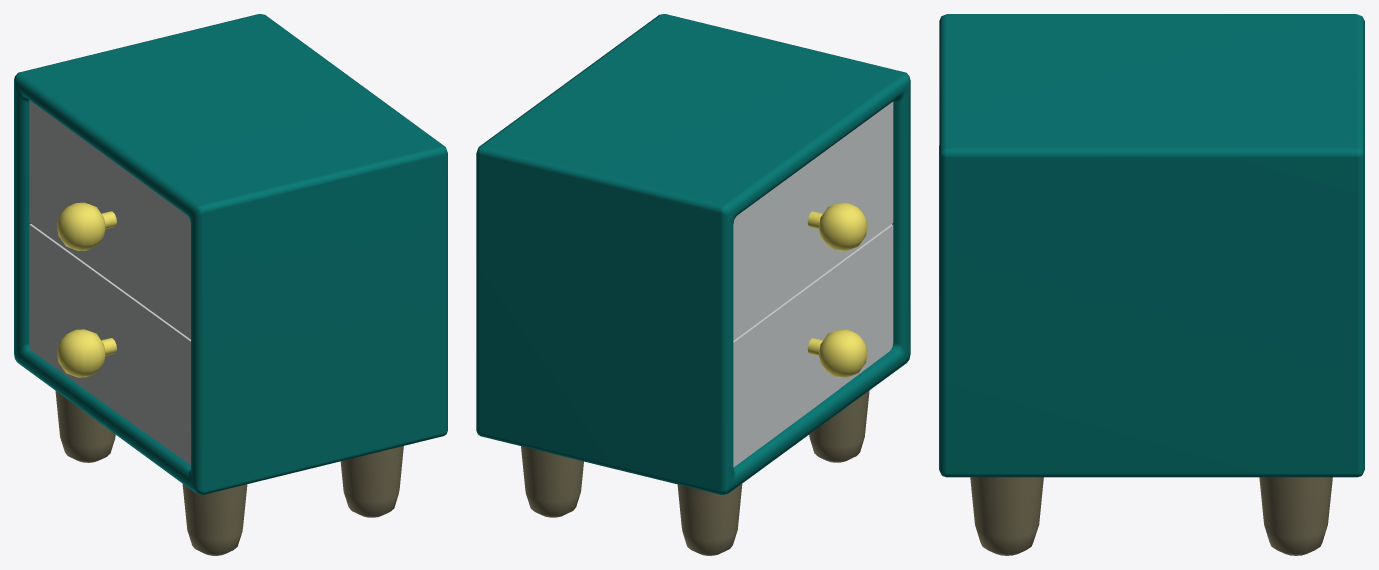
Rendered from SmallDrawerLivingRoom.fbx.
3 views of the same model, side by side, from view 1: azimuth 30°, elevation 25°; view 2: azimuth 150°, elevation 25°; view 3: azimuth 270°, elevation 25° (orthographic). The views are drawn at different scales.
Parts seen in each view (by area): view 1: smallDrawerLivingRoom.001, smallDrawerLivingRoom.003, smallDrawerLivingRoom.002; view 2: smallDrawerLivingRoom.001, smallDrawerLivingRoom.003, smallDrawerLivingRoom.002; view 3: smallDrawerLivingRoom.001.
Part boxes in pixels (x1=…): smallDrawerLivingRoom.001: x1=14, y1=14, x2=447, y2=555; smallDrawerLivingRoom.003: x1=29, y1=224, x2=190, y2=464; smallDrawerLivingRoom.002: x1=29, y1=100, x2=190, y2=339; smallDrawerLivingRoom.001: x1=476, y1=14, x2=910, y2=555; smallDrawerLivingRoom.003: x1=733, y1=224, x2=893, y2=467; smallDrawerLivingRoom.002: x1=733, y1=101, x2=893, y2=340; smallDrawerLivingRoom.001: x1=939, y1=14, x2=1364, y2=555.
Size of the model in its own units: 66.32 by 80.15 by 72.58.
